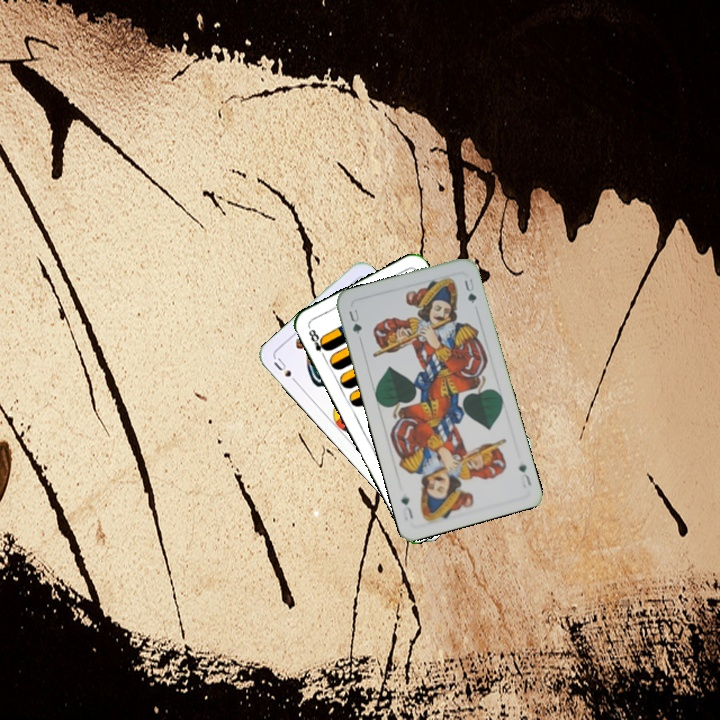E8: (304, 325, 331, 361)
GU: (344, 305, 365, 337), (515, 460, 534, 488)
SU: (269, 353, 302, 387)
